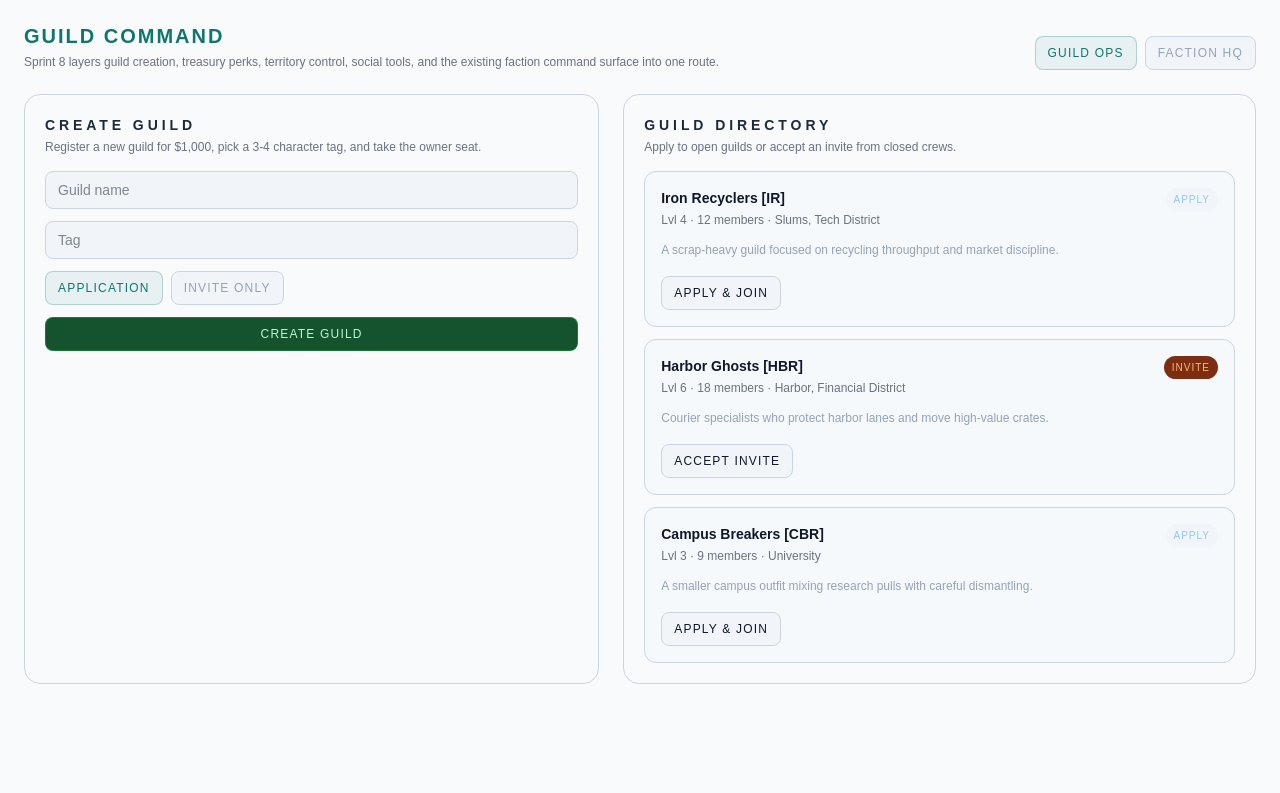
GuildPage › renders guild ops and lets the player create a guild
Expected: the heading "Guild Command" is shown, [24, 25, 224, 47]
Expected: the element named "guild-directory" is shown, [623, 94, 1256, 684]
Step 1. Type "Yard Dogs" into the field named "guild-name" → (312, 190), box [45, 171, 578, 209]
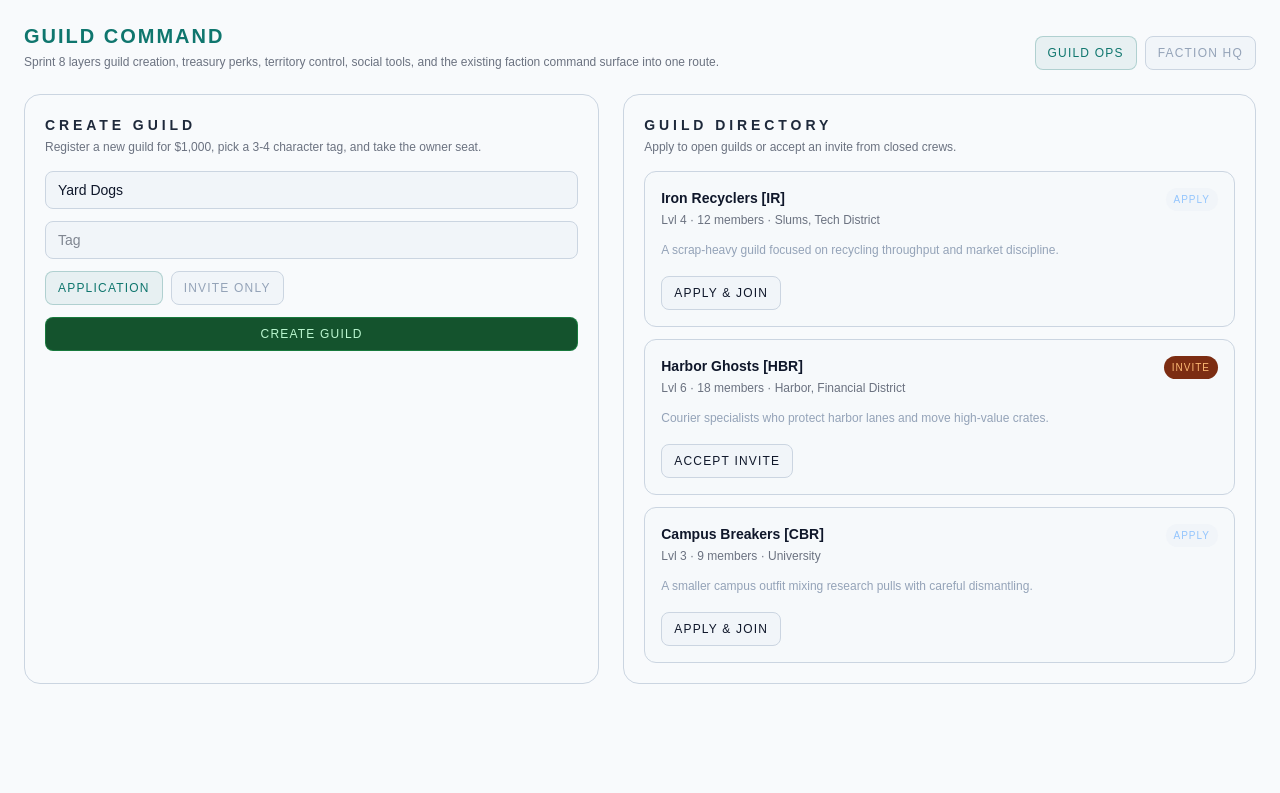
Step 2. Type "YDG" into the field named "guild-tag" → (312, 240), box [45, 221, 578, 259]
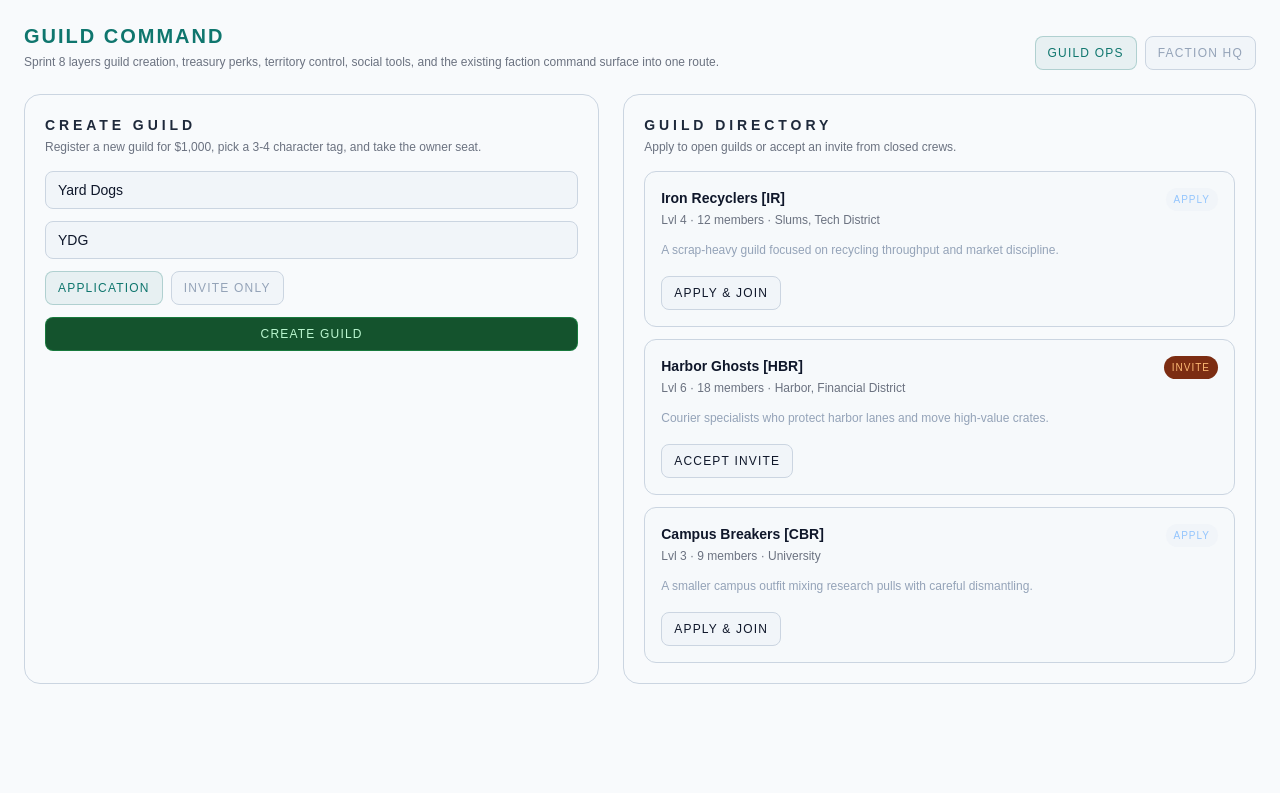
Step 3. Click the button "Create Guild" → (312, 334), box [45, 317, 578, 351]
(page scrolled)
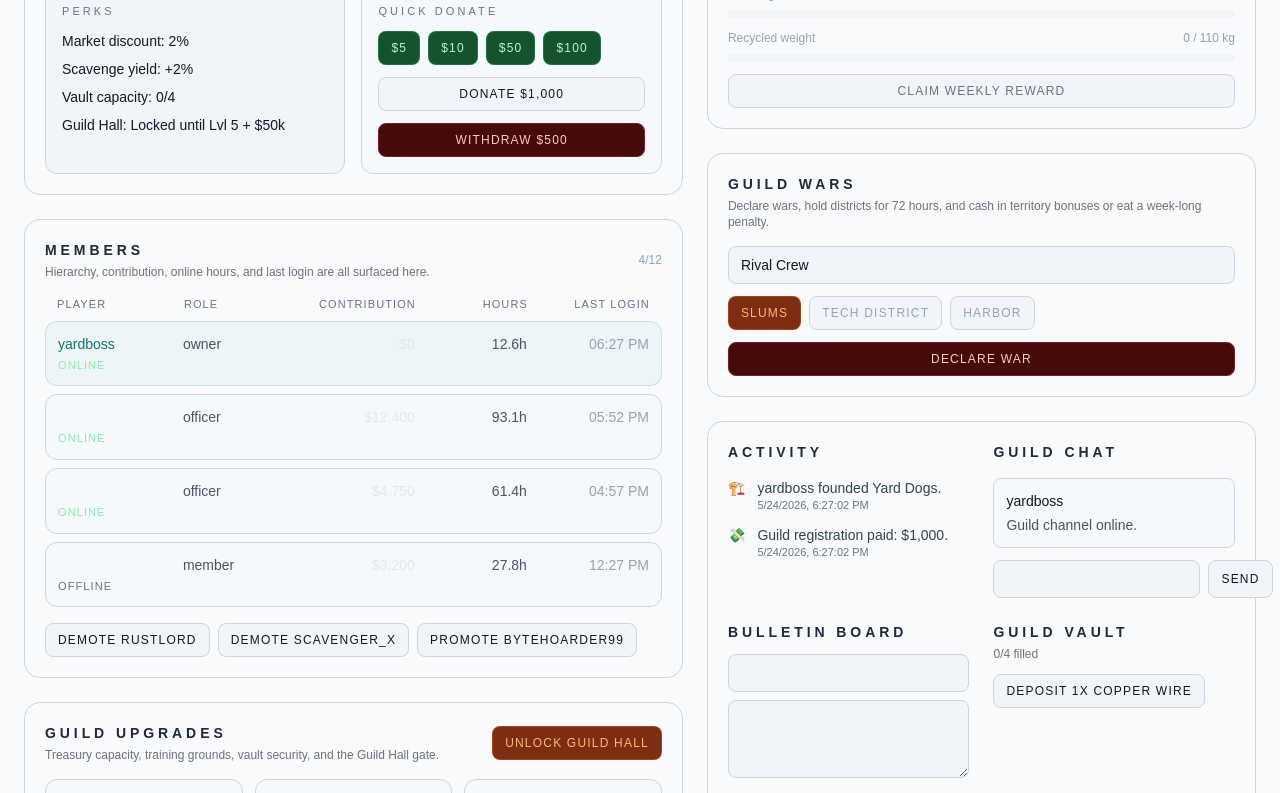
Expected: the text "member" is shown, [183, 557, 234, 573]
Expected: the element named "guild-members-table" is shown, [24, 219, 683, 678]
